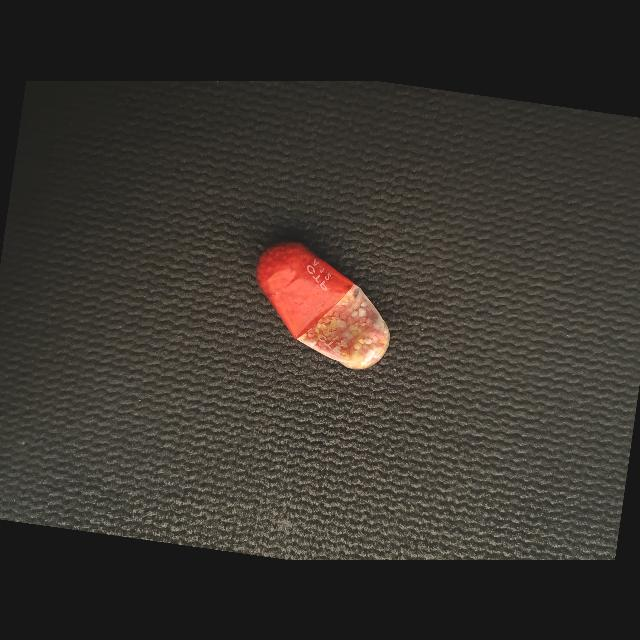Defective Capsule: (256, 242, 390, 369)
